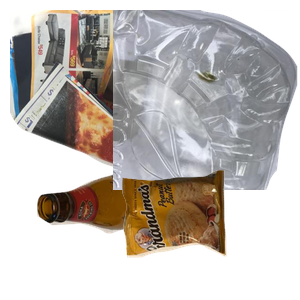glass: (34, 170, 223, 300)
paper: (10, 10, 250, 190)
plastic: (113, 10, 300, 190)
trash: (120, 168, 300, 300)
